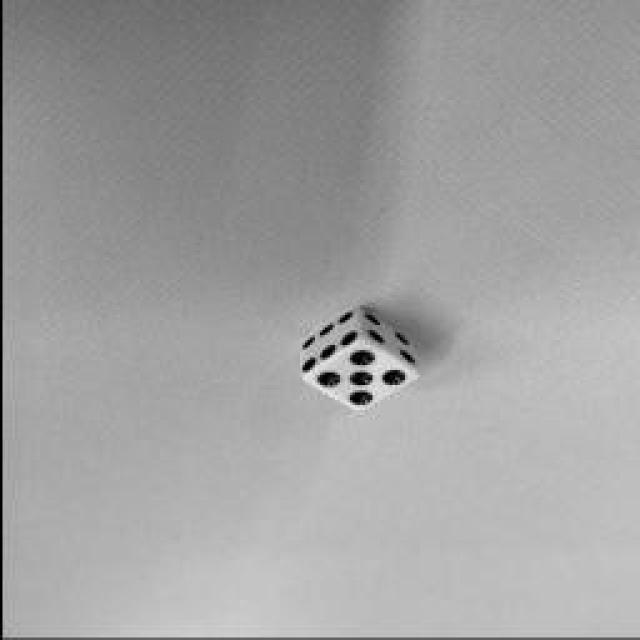dice_5: (300, 341, 418, 411)
